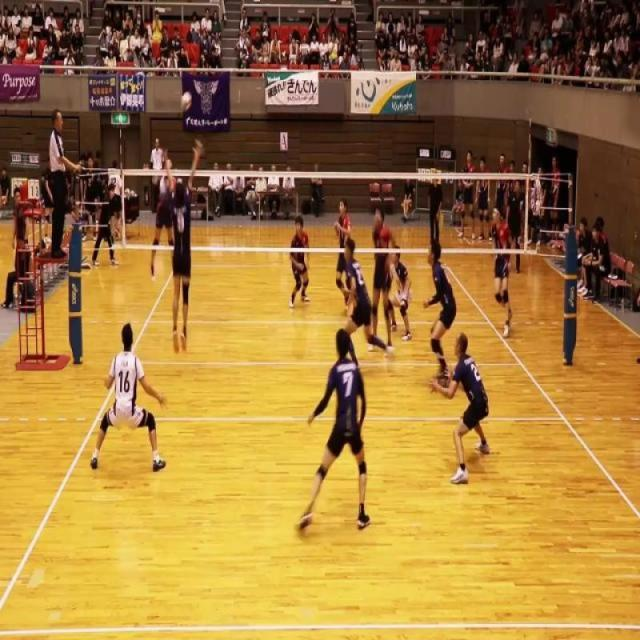volleyball: (180, 90, 192, 111)
